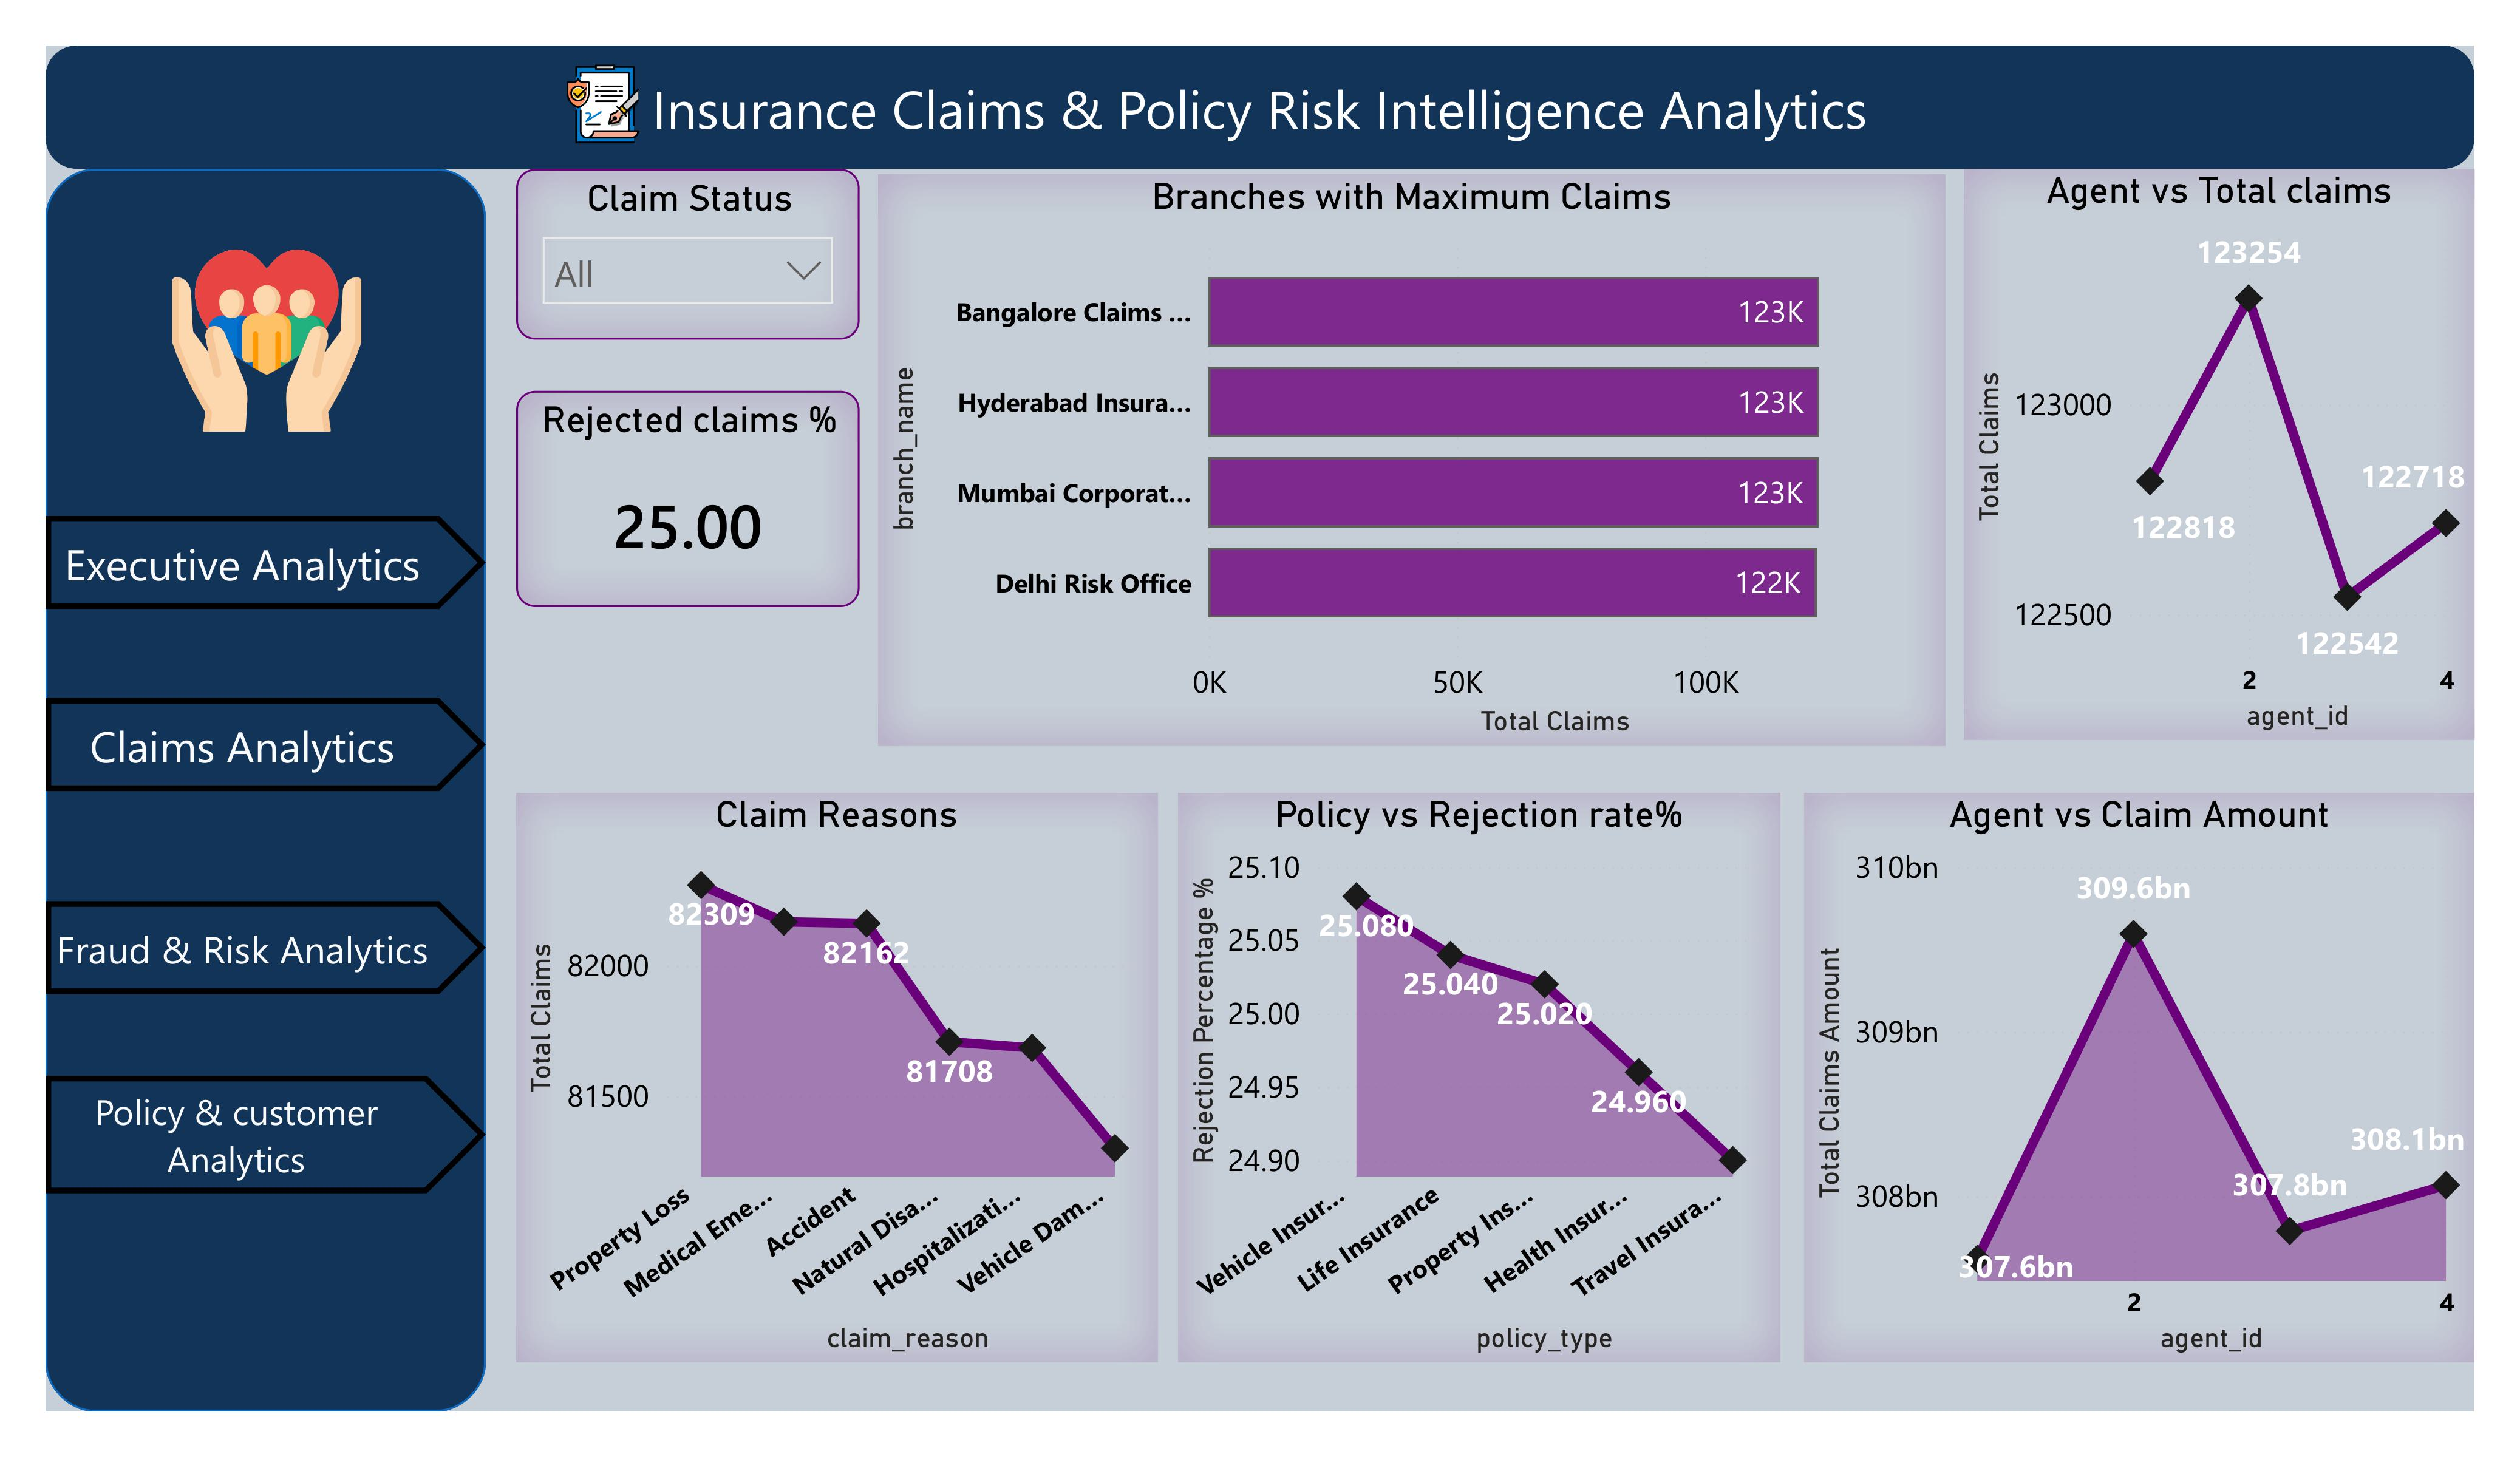

This screenshot's page, from the dashboard's own definition file:
{"tool":"powerbi","page":{"name":"Claims","canvas":[1280,720],"ordinal":2},"visuals":[{"type":"shape","box":[0,0,1280.2,64.8],"z":0},{"type":"shape","box":[0,64.8,231.8,655.2],"z":1000},{"type":"actionButton","box":[0,247.7,231.8,49],"z":2000},{"type":"actionButton","box":[0,344.2,231.8,49],"z":3000},{"type":"actionButton","box":[0,450.7,231.8,49],"z":4000},{"type":"actionButton","box":[0,542.9,231.8,61.9],"z":5000},{"type":"image","box":[33.1,103.7,167,103.7],"z":6000},{"type":"image","box":[270.7,7.2,47.5,49],"z":7000},{"type":"slicer","title":"Claim Status","fields":{"Values":["dim_claim_status.claim_status"]},"box":[248.4,65.4,180.2,90.1],"z":8000},{"type":"barChart","title":"Branches with Maximum Claims","fields":{"Y":["Measures (3).Total Claims"],"Category":["dim_branch.branch_name"]},"box":[438.8,68.3,562.3,300.7],"z":9000},{"type":"stackedAreaChart","title":"Claim Reasons","fields":{"Category":["fact_insurance_claims.claim_reason"],"Y":["Measures (3).Total Claims"]},"box":[248.4,393.7,337.1,300.7],"z":10000},{"type":"cardVisual","title":"Rejected claims %","fields":{"Data":["Measures (3).Rejection Percentage %"]},"box":[248.4,181.6,180.2,114.8],"z":11000},{"type":"stackedAreaChart","title":"Policy vs Rejection rate%","fields":{"Y":["Measures (3).Rejection Percentage %"],"Category":["dim_policy.policy_type"]},"box":[597.1,393.7,316.7,300.7],"z":12000},{"type":"areaChart","title":"Agent vs Claim Amount","fields":{"Category":["dim_agent.agent_id"],"Y":["Measures (3).Total Claims Amount"]},"box":[926.9,393.7,353.1,300.7],"z":13000},{"type":"lineChart","title":"Agent vs Total claims","fields":{"Category":["dim_agent.agent_id"],"Y":["Measures (3).Total Claims"]},"box":[1011.2,65.4,268.8,300.7],"z":14000}]}

Visuals, with their boxes on the page's 1280x720 design canvas (x1, y1, x2, y2). These are canvas units, not pixel positions in the 2520x1457 screenshot, which may show the page scaled, cropped or inside an application window:
shape: l=0, t=0, r=1280, b=65
shape: l=0, t=65, r=232, b=720
actionButton: l=0, t=248, r=232, b=297
actionButton: l=0, t=344, r=232, b=393
actionButton: l=0, t=451, r=232, b=500
actionButton: l=0, t=543, r=232, b=605
image: l=33, t=104, r=200, b=207
image: l=271, t=7, r=318, b=56
"Claim Status" slicer: l=248, t=65, r=429, b=156
"Branches with Maximum Claims" barChart: l=439, t=68, r=1001, b=369
"Claim Reasons" stackedAreaChart: l=248, t=394, r=586, b=694
"Rejected claims %" cardVisual: l=248, t=182, r=429, b=296
"Policy vs Rejection rate%" stackedAreaChart: l=597, t=394, r=914, b=694
"Agent vs Claim Amount" areaChart: l=927, t=394, r=1280, b=694
"Agent vs Total claims" lineChart: l=1011, t=65, r=1280, b=366
